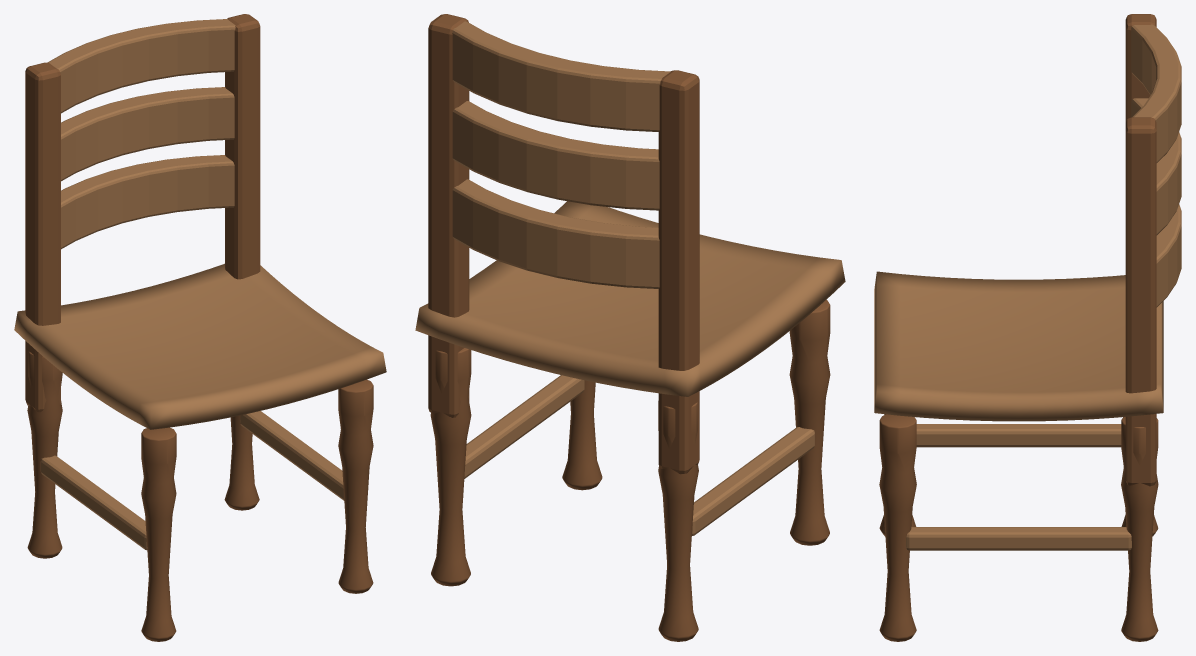
The model's file is chair.glb.
3 views of the same model, side by side, from view 1: azimuth 30°, elevation 25°; view 2: azimuth 150°, elevation 25°; view 3: azimuth 270°, elevation 25° (orthographic). The views are drawn at different scales.
Parts seen in each view (by area): view 1: curved_seat, back_post, back_slat.002, back_slat.001, back_slat, back_post.001, turned_leg.004, turned_leg.006, turned_leg.005, stretcher, stretcher.001, turned_leg.007; view 2: curved_seat, back_post, back_slat.002, back_slat, back_slat.001, back_post.001, turned_leg.004, turned_leg.007, turned_leg.005, stretcher, stretcher.001, turned_leg.006; view 3: curved_seat, back_post.001, turned_leg.006, stretcher.001, turned_leg.007, stretcher, back_slat.002, back_slat.001, back_slat, back_post.
Boxes of the visible parts, left/top/right/bottom form: curved_seat: left=14, top=263, right=386, bottom=429; back_post: left=25, top=62, right=60, bottom=412; back_slat.002: left=47, top=19, right=235, bottom=113; back_slat.001: left=61, top=87, right=234, bottom=181; back_slat: left=61, top=155, right=234, bottom=249; back_post.001: left=225, top=14, right=260, bottom=279; turned_leg.004: left=141, top=427, right=176, bottom=641; turned_leg.006: left=338, top=379, right=373, bottom=593; turned_leg.005: left=27, top=351, right=62, bottom=558; stretcher: left=40, top=455, right=147, bottom=550; stretcher.001: left=240, top=411, right=344, bottom=500; turned_leg.007: left=224, top=415, right=259, bottom=510; curved_seat: left=415, top=201, right=845, bottom=396; back_post: left=658, top=70, right=699, bottom=474; back_slat.002: left=452, top=21, right=670, bottom=131; back_slat: left=452, top=179, right=659, bottom=288; back_slat.001: left=452, top=101, right=659, bottom=210; back_post.001: left=428, top=14, right=469, bottom=417; turned_leg.004: left=789, top=300, right=830, bottom=545; turned_leg.007: left=430, top=348, right=471, bottom=586; turned_leg.005: left=658, top=401, right=698, bottom=641; stretcher: left=692, top=427, right=814, bottom=535; stretcher.001: left=464, top=375, right=584, bottom=478; turned_leg.006: left=562, top=380, right=602, bottom=490; curved_seat: left=874, top=271, right=1163, bottom=421; back_post.001: left=1125, top=117, right=1156, bottom=486; turned_leg.006: left=879, top=414, right=916, bottom=641; stretcher.001: left=906, top=527, right=1131, bottom=550; turned_leg.007: left=1121, top=417, right=1158, bottom=641; stretcher: left=916, top=424, right=1121, bottom=447; back_slat.002: left=1131, top=24, right=1181, bottom=162; back_slat.001: left=1131, top=98, right=1181, bottom=235; back_slat: left=1156, top=204, right=1181, bottom=307; back_post: left=1125, top=14, right=1156, bottom=122.
Bounding box in the file's own units: 0.5093 × 1 × 0.5411.
